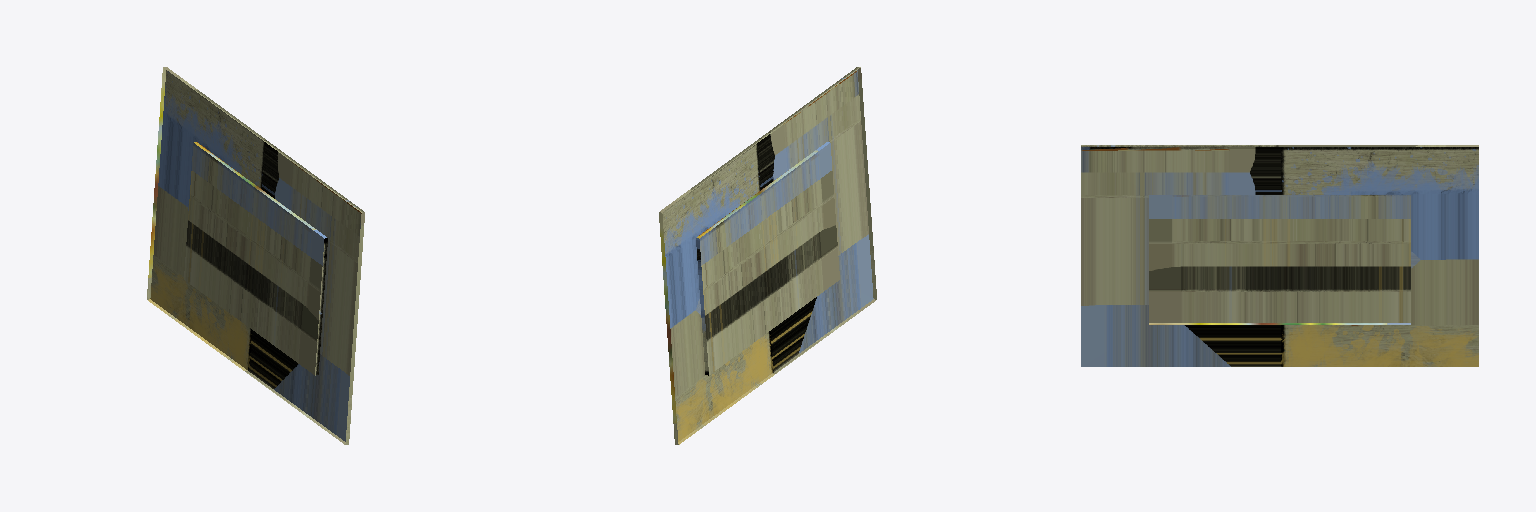
3 views of the same model, side by side, from view 1: azimuth 30°, elevation 25°; view 2: azimuth 150°, elevation 25°; view 3: azimuth 270°, elevation 25° (orthographic).
Parts seen in each view (by area): view 1: Plane.005; view 2: Plane.005; view 3: Plane.005.
Part boxes in pixels (left/top/right/bottom): Plane.005: left=147, top=67, right=364, bottom=444; Plane.005: left=659, top=67, right=876, bottom=444; Plane.005: left=1081, top=145, right=1478, bottom=366.
Bounding box in the file's own units: 0.0271 × 0.2994 × 0.4712.
Materials: 1 (1 with a texture image).